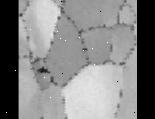good_void: (36, 66, 50, 74)
